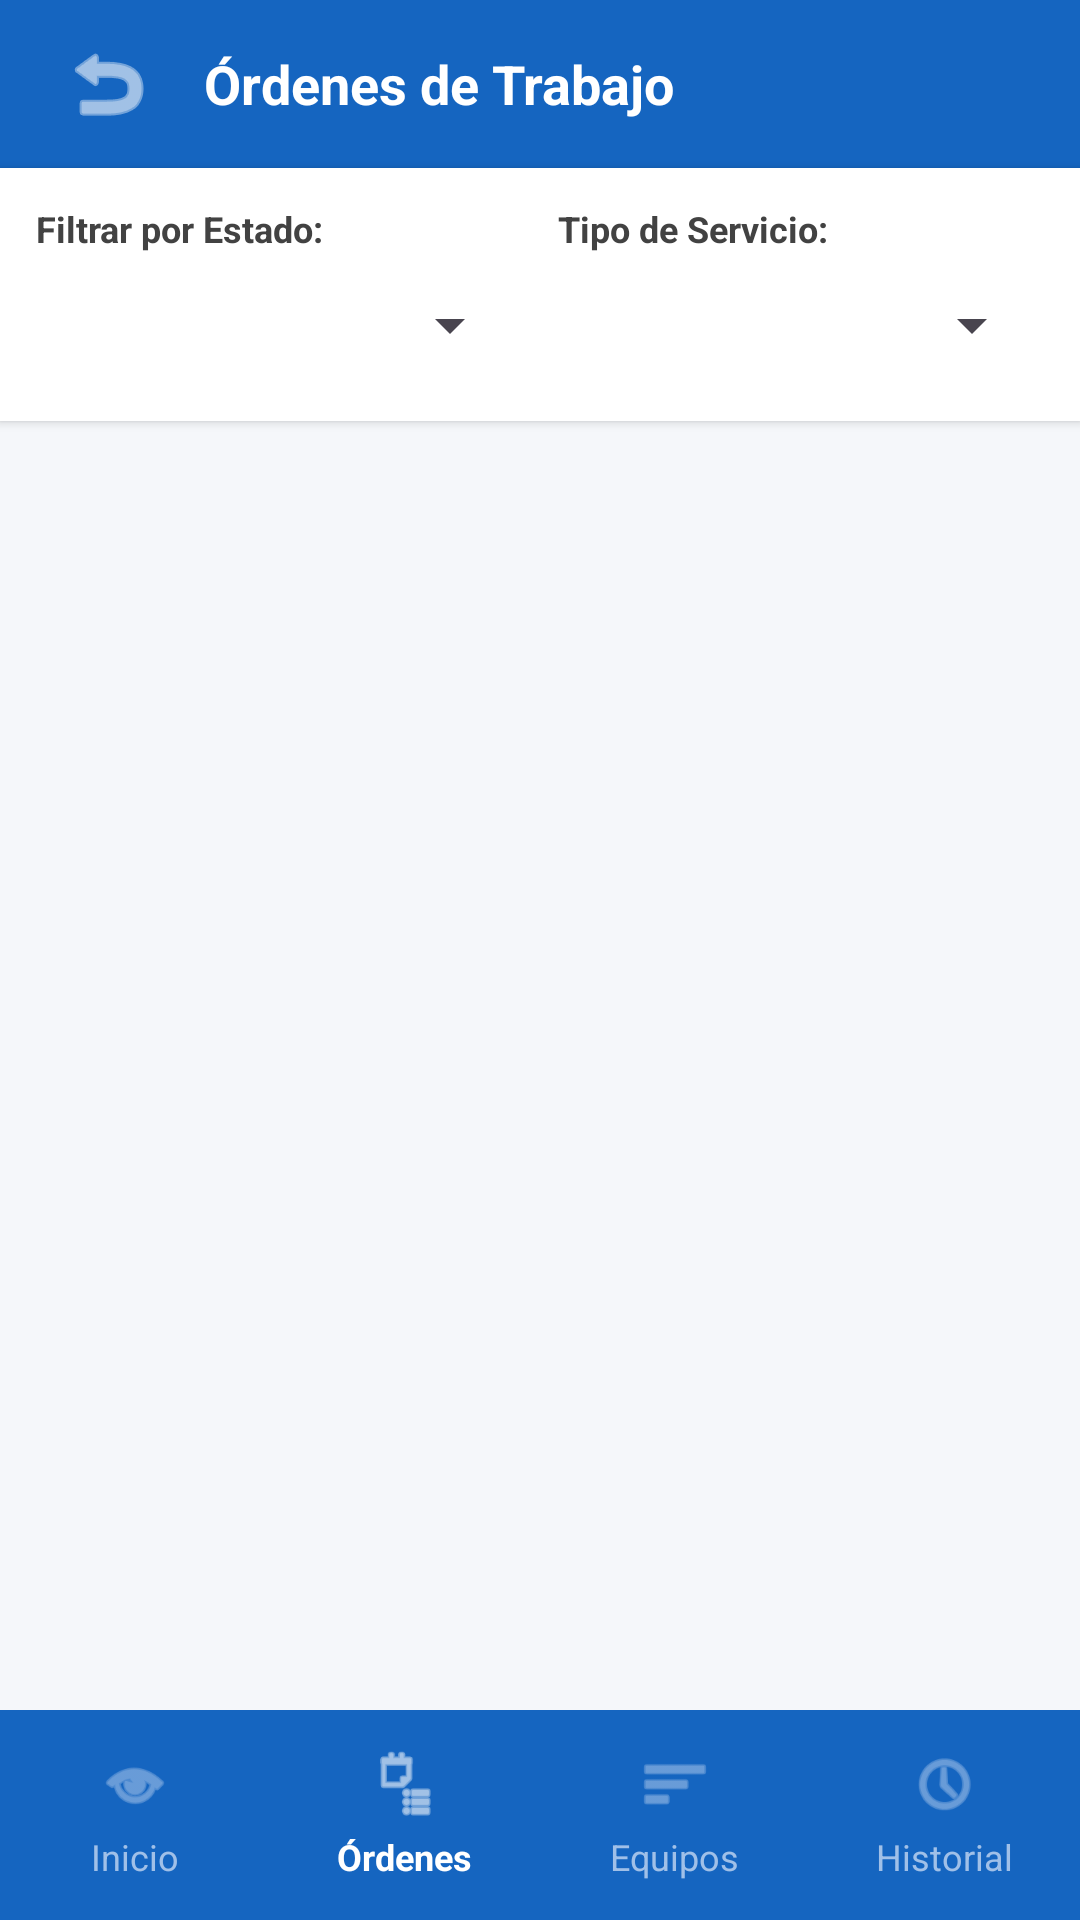

Screen size 1080px x 1920px. Icon name, then its box in pixels as BBox(x1, y1, x2, y2):
agenda: BBox(380, 1752, 431, 1816)
sort by size: BBox(644, 1764, 706, 1804)
view: BBox(106, 1768, 164, 1804)
Volver al Dashboard: BBox(75, 53, 144, 116)
